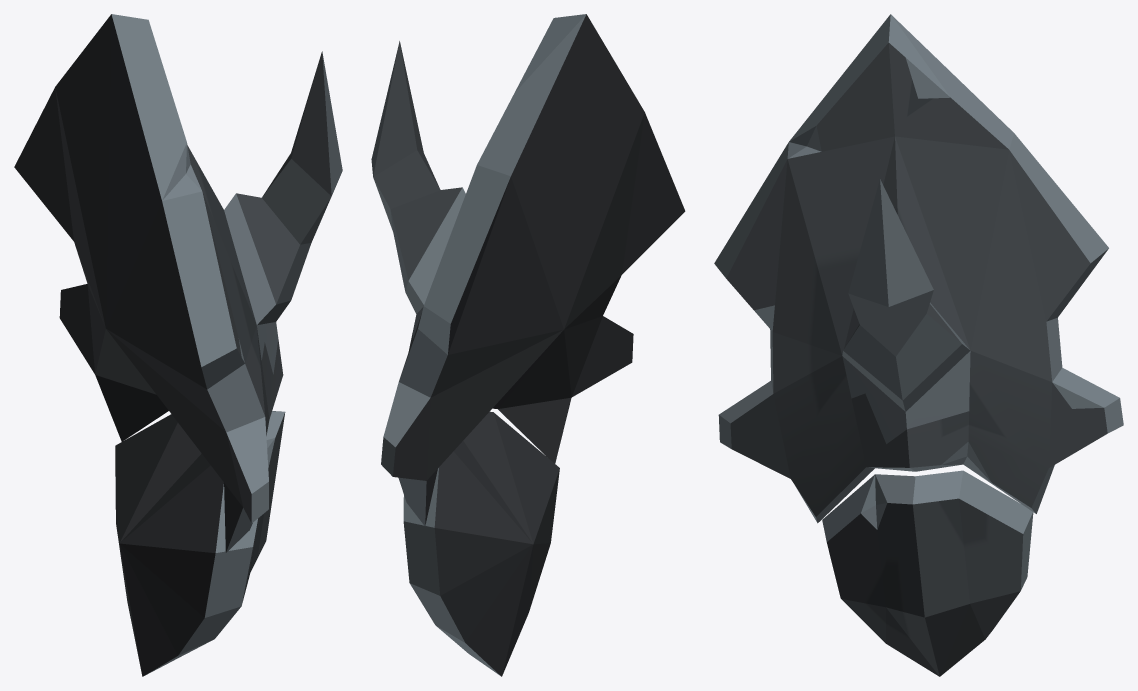
Rendered from SM_Chr_Attach_Armour_Dark_Leg_FL_Small_01.fbx.
3 renders of one model, left to right at view 1: azimuth 30°, elevation 25°; view 2: azimuth 150°, elevation 25°; view 3: azimuth 270°, elevation 25°, orthographic. The views are drawn at different scales.
Visible parts, largest first — view 1: SM_Chr_Attach_Armour_Dark_Leg_FL_Small_01; view 2: SM_Chr_Attach_Armour_Dark_Leg_FL_Small_01; view 3: SM_Chr_Attach_Armour_Dark_Leg_FL_Small_01.
Part boxes in pixels (x1,y1,x2,y2): SM_Chr_Attach_Armour_Dark_Leg_FL_Small_01: (14, 14, 342, 676); SM_Chr_Attach_Armour_Dark_Leg_FL_Small_01: (371, 14, 685, 676); SM_Chr_Attach_Armour_Dark_Leg_FL_Small_01: (714, 14, 1123, 676).
Size of the model in its own units: 10.2 by 28.64 by 16.83.
